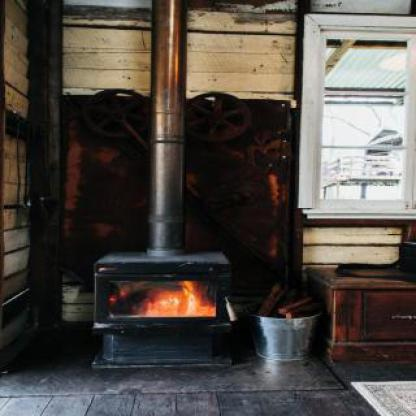Fire: (124, 274, 219, 320)
